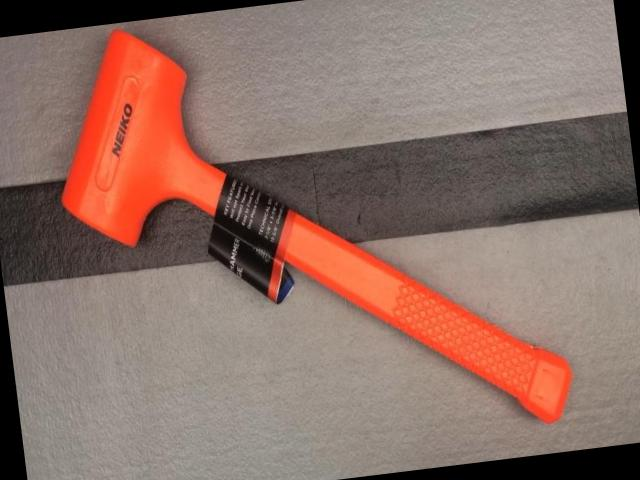hammer: (42, 0, 580, 480)
